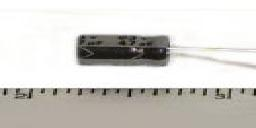Electrolytic-Capacitor: (75, 30, 256, 68)
